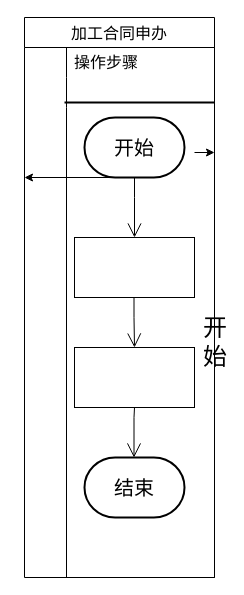
Image size: 244x595. Some labels were removed from this diagram. Here are the shapes that lost their labels. From the top down, the centre of each, then its label:
At point 134,267: "委托加工调运指令".
At point 134,377: "调运合同申办".
